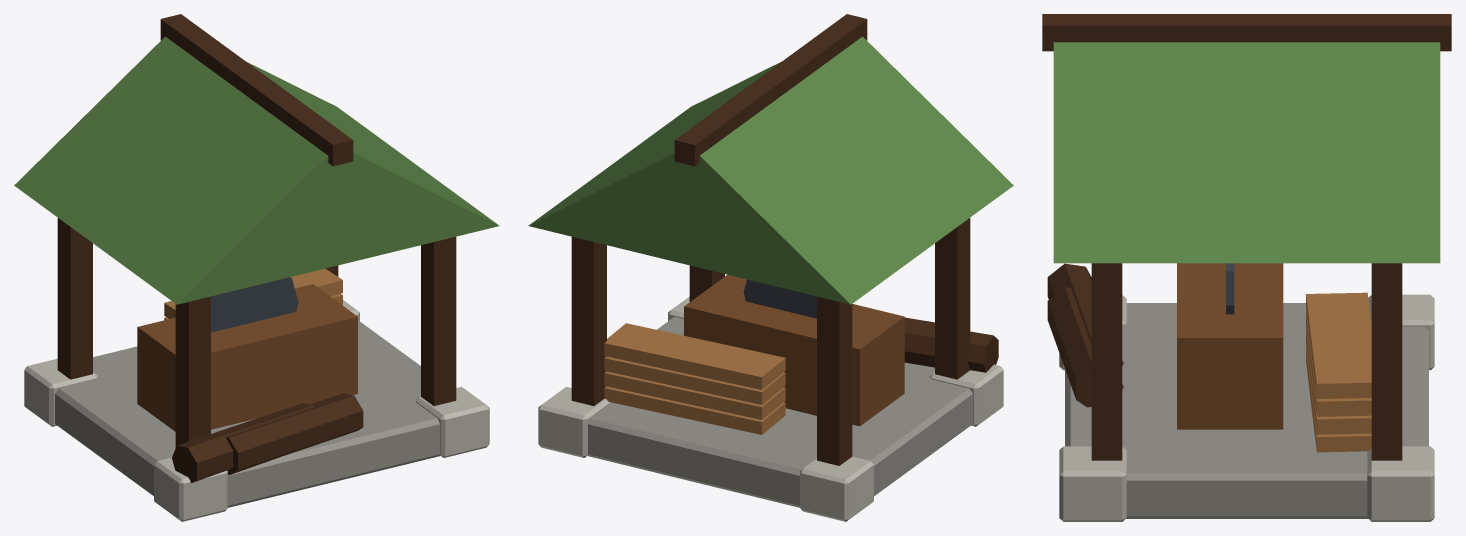
Rendered from sawmill.glb.
3 renders of one model, left to right at view 1: azimuth 30°, elevation 25°; view 2: azimuth 150°, elevation 25°; view 3: azimuth 270°, elevation 25°, orthographic. The views are drawn at different scales.
Parts seen in each view (by area): view 1: roof_body, foundation_core, saw_table, roof_ridge, post.002, post.001, raw_log_1, post, corner_brick, saw_blade, corner_brick.002, raw_log_0 (+2 smaller); view 2: roof_body, foundation_core, saw_table, roof_ridge, plank_stack_3, post.001, post.003, post, corner_brick.001, corner_brick.003, plank_stack_1, plank_stack_2 (+5 smaller); view 3: roof_body, foundation_core, saw_table, roof_ridge, plank_stack_3, post.002, post.003, corner_brick.002, corner_brick.003, raw_log_1, raw_log_0, corner_brick.001 (+3 smaller).
Boxes of the visible parts, x1=… form: roof_body: x1=14, y1=36, x2=499, y2=304; foundation_core: x1=55, y1=320, x2=440, y2=507; saw_table: x1=137, y1=284, x2=357, y2=431; roof_ridge: x1=160, y1=14, x2=353, y2=166; post.002: x1=421, y1=236, x2=456, y2=405; post.001: x1=57, y1=218, x2=92, y2=379; raw_log_1: x1=225, y1=393, x2=363, y2=474; post: x1=175, y1=296, x2=210, y2=447; corner_brick: x1=154, y1=457, x2=227, y2=521; saw_blade: x1=211, y1=277, x2=298, y2=332; corner_brick.002: x1=415, y1=386, x2=489, y2=457; raw_log_0: x1=172, y1=403, x2=313, y2=483; roof_body: x1=528, y1=36, x2=1013, y2=304; foundation_core: x1=587, y1=316, x2=972, y2=507; saw_table: x1=684, y1=274, x2=904, y2=426; roof_ridge: x1=674, y1=14, x2=867, y2=166; plank_stack_3: x1=604, y1=323, x2=785, y2=389; post.001: x1=817, y1=296, x2=852, y2=465; post.003: x1=571, y1=236, x2=606, y2=405; post: x1=935, y1=218, x2=970, y2=379; corner_brick.001: x1=800, y1=456, x2=873, y2=521; corner_brick.003: x1=538, y1=386, x2=611, y2=457; plank_stack_1: x1=604, y1=371, x2=785, y2=419; plank_stack_2: x1=604, y1=356, x2=785, y2=404; roof_body: x1=1053, y1=42, x2=1440, y2=263; foundation_core: x1=1065, y1=303, x2=1428, y2=518; saw_table: x1=1177, y1=263, x2=1283, y2=429; roof_ridge: x1=1042, y1=14, x2=1451, y2=51; plank_stack_3: x1=1306, y1=292, x2=1371, y2=398; post.002: x1=1091, y1=263, x2=1122, y2=460; post.003: x1=1371, y1=263, x2=1402, y2=460; corner_brick.002: x1=1059, y1=446, x2=1126, y2=521; corner_brick.003: x1=1367, y1=446, x2=1434, y2=521; raw_log_1: x1=1047, y1=287, x2=1123, y2=407; raw_log_0: x1=1047, y1=263, x2=1123, y2=365; corner_brick.001: x1=1368, y1=294, x2=1434, y2=370.
Bounding box in the file's own units: 1.58 × 1.63 × 1.46.
